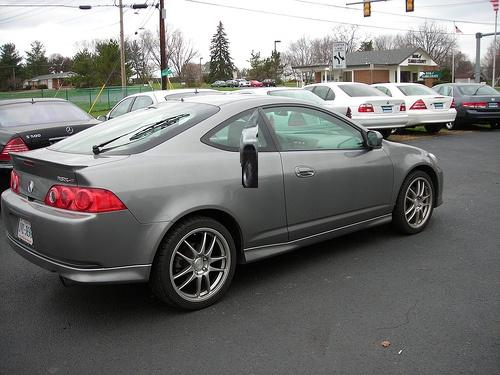tampered: (240, 107, 258, 188)
